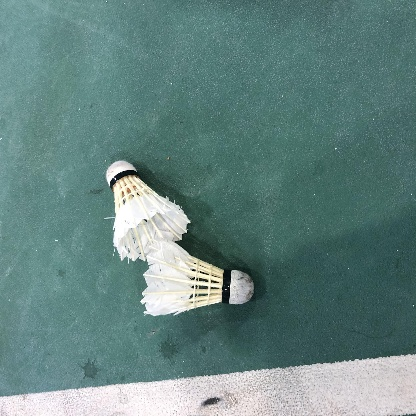ball_single: (106, 161, 191, 261), (141, 241, 254, 316)
